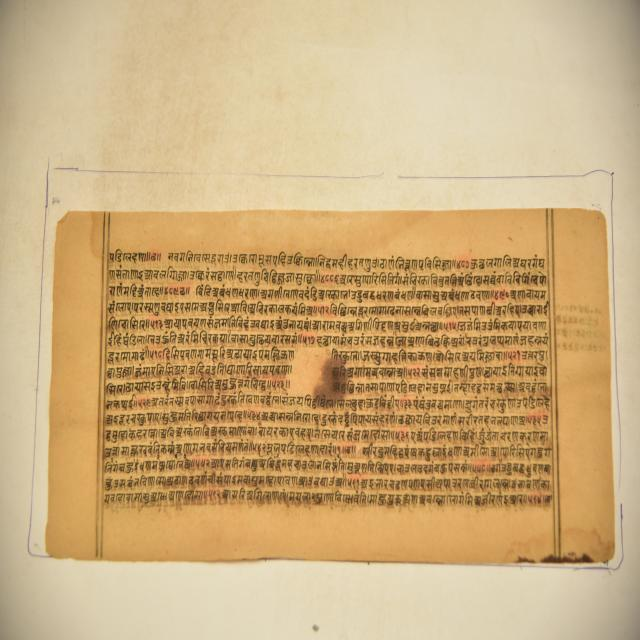text_paragraph: (48, 209, 611, 564)
